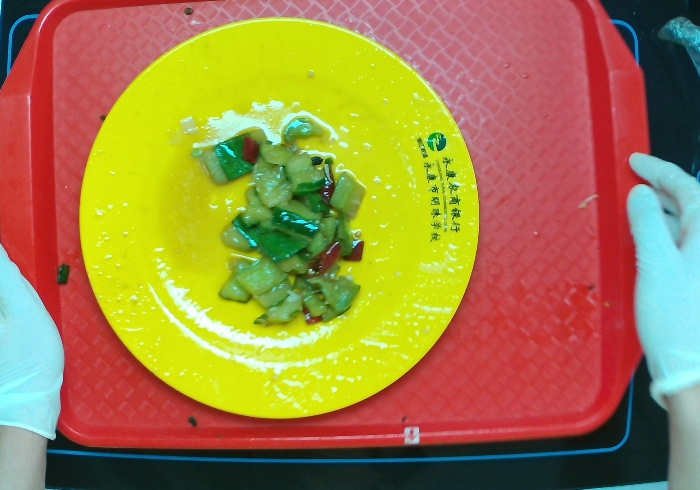YKMZ-Huang_Se_Mian_Pan: (78, 19, 478, 416)
